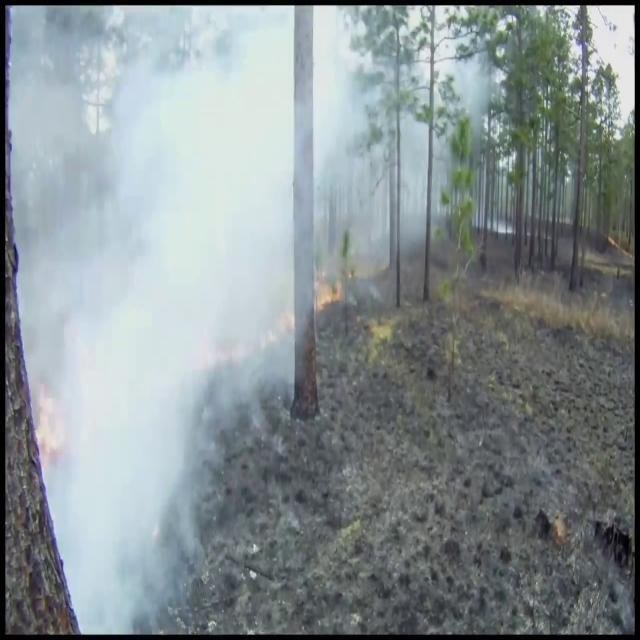Fire: (318, 270, 348, 312)
Smoke: (12, 6, 292, 618)
